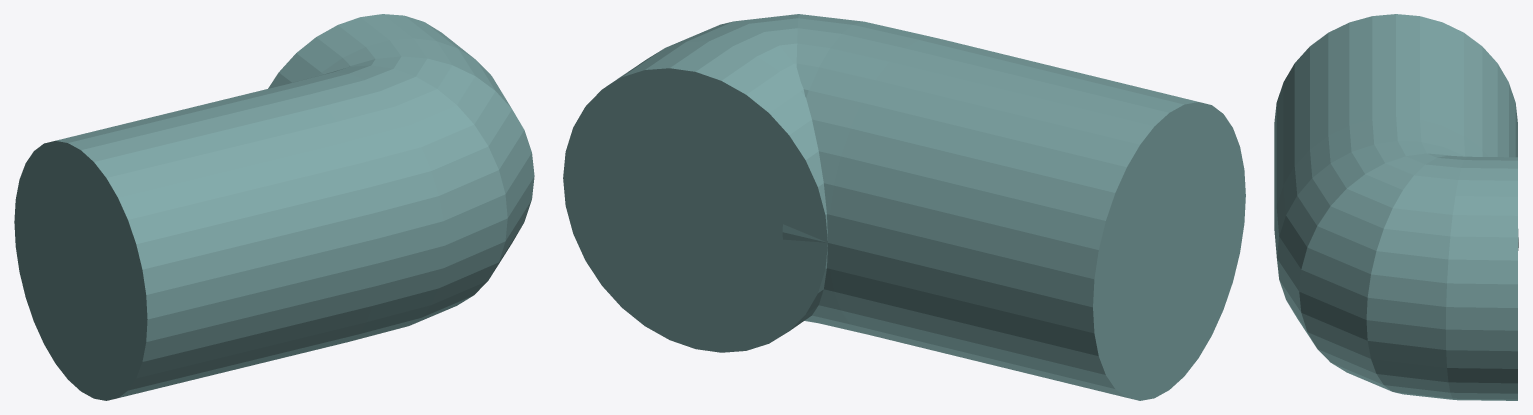
File: O2-pipe2.glb
The picture shows the model from 3 angles, left to right: view 1: azimuth 30°, elevation 25°; view 2: azimuth 150°, elevation 25°; view 3: azimuth 270°, elevation 25°; orthographic projection. The views are drawn at different scales.
Parts seen in each view (by area): view 1: Cylinder.001; view 2: Cylinder.001; view 3: Cylinder.001.
Part boxes in pixels (<box>): Cylinder.001: <box>14,14,534,400</box>; Cylinder.001: <box>563,14,1245,400</box>; Cylinder.001: <box>1274,14,1518,400</box>.
Bounding box in the file's own units: 4 × 2 × 2.01.
